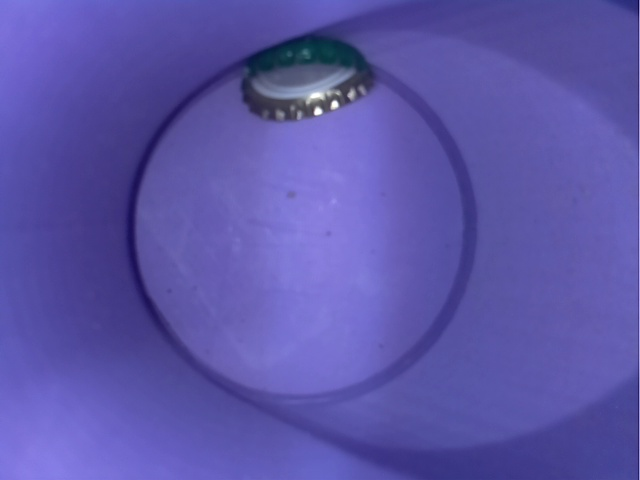capsule: (222, 21, 405, 133)
